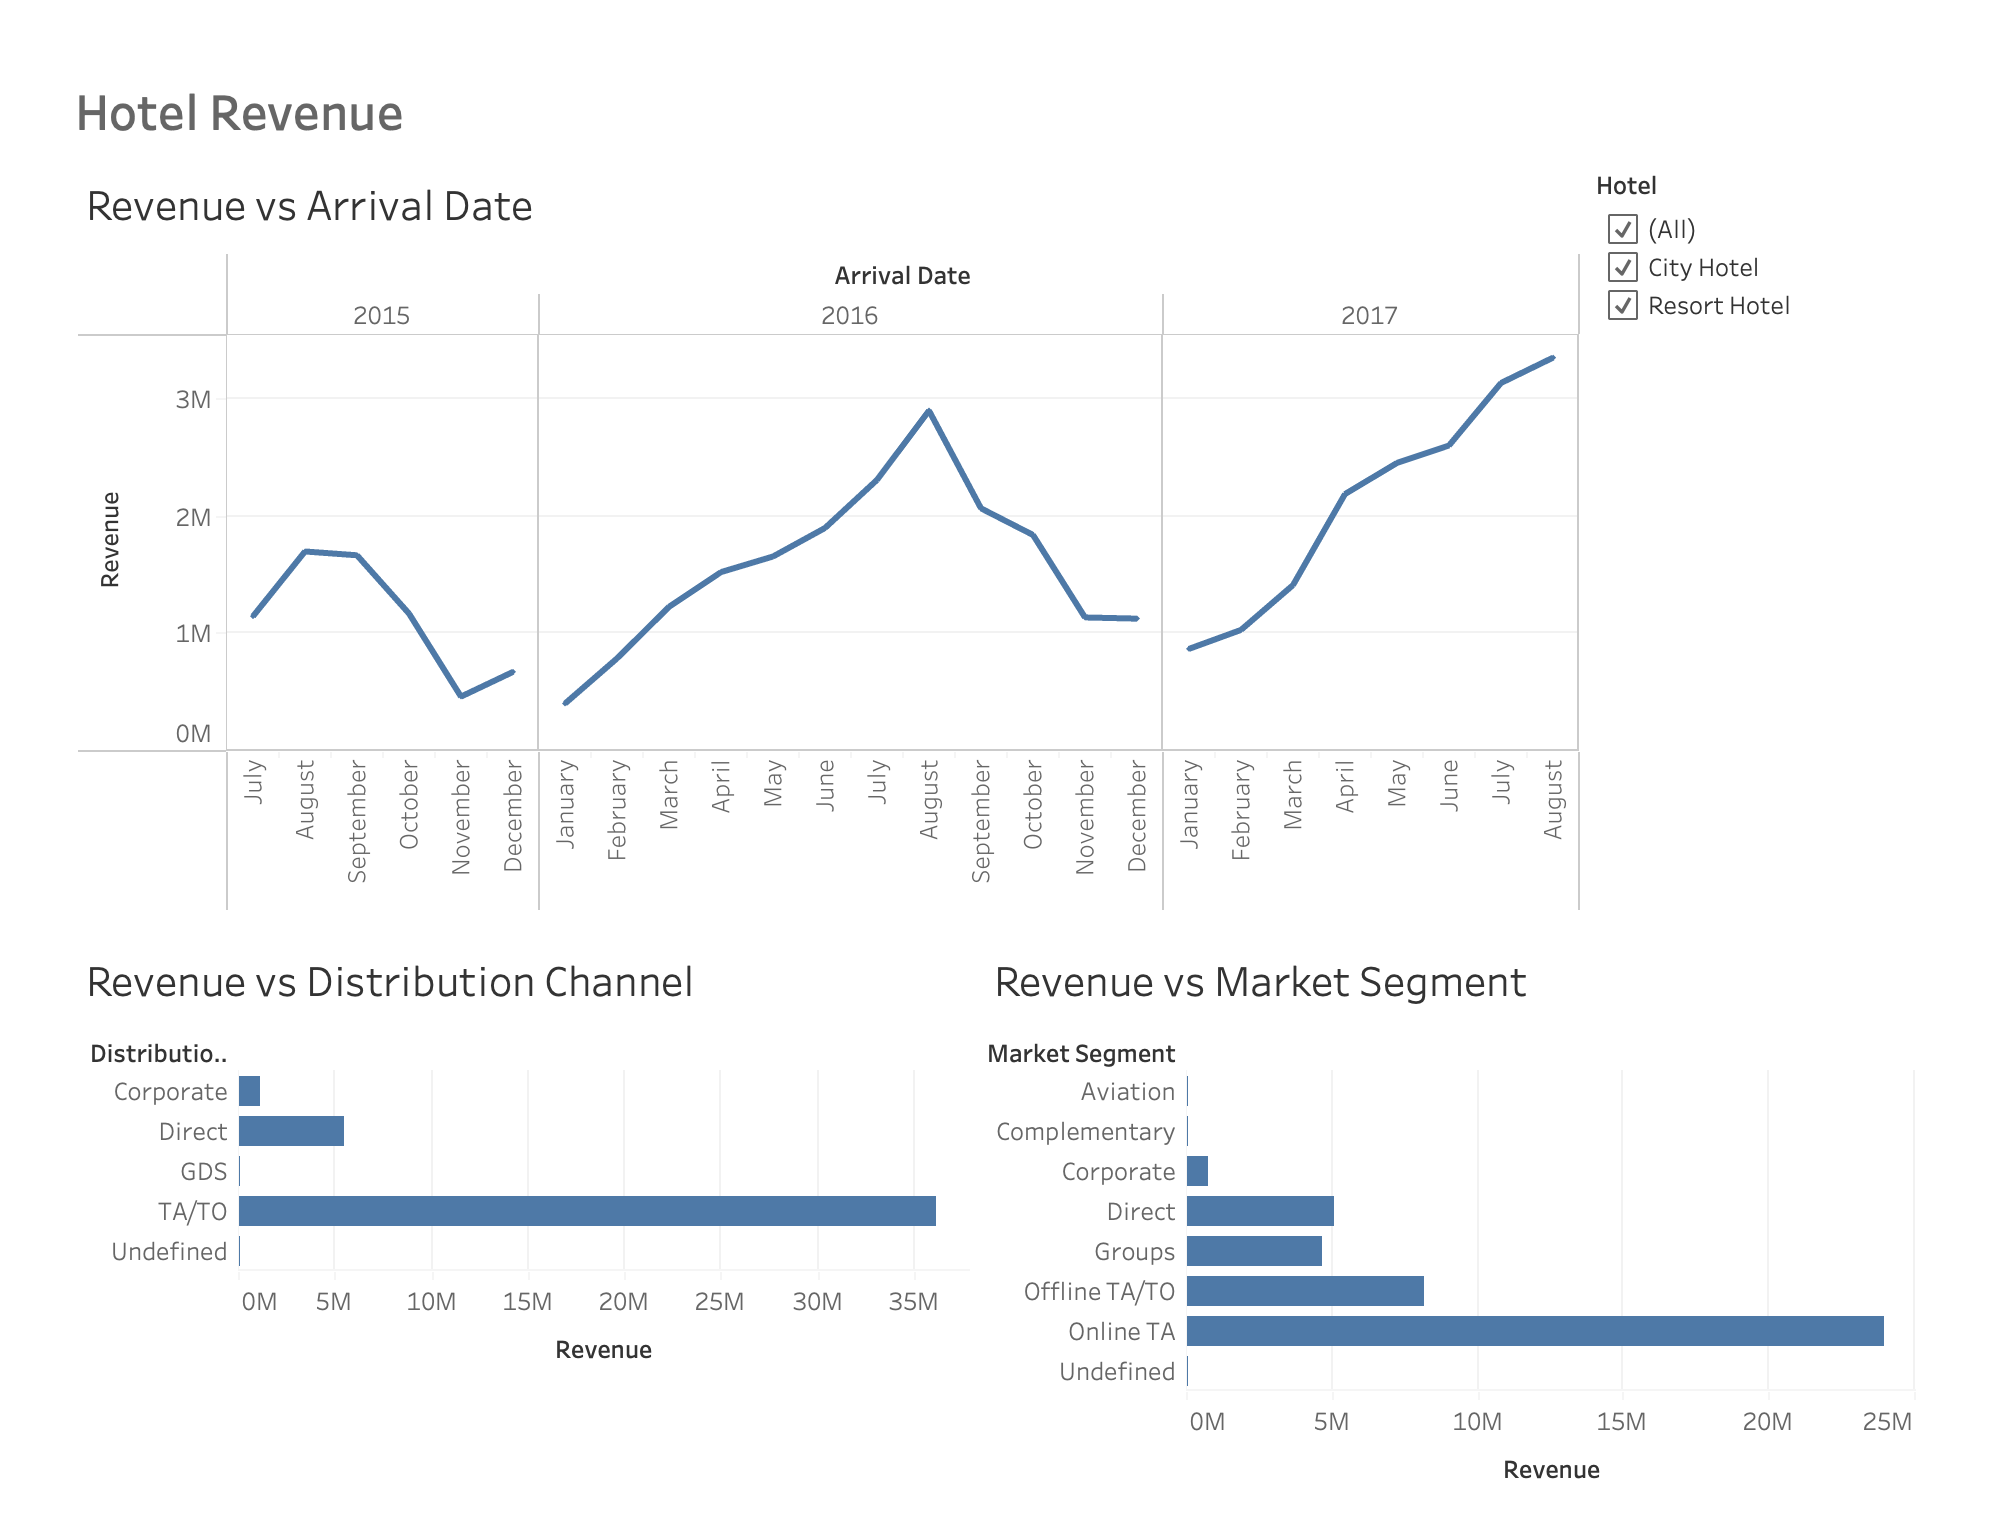

What the dashboard file says about the page in this screenshot:
{"tool":"tableau","page":{"name":"Hotel Revenue","canvas":[1000,800],"ordinal":0},"visuals":[{"type":"text","box":[30,50,935,41]},{"type":"worksheet","title":"Sheet 4","mark":"Automatic","rows":["Calculation_2306828191035043841"],"cols":["Calculation_2306828191040294916","Calculation_2306828191040294916"],"box":[34,95,758.8,380]},{"type":"filter","title":"Sheet 4","param":"[federated.0qbrdpk0nfwhgm1dxf0lx1k7eqxd].[none:hotel:nk]","box":[792.8,95,168,380]},{"type":"worksheet","title":"Sheet 3","mark":"Automatic","rows":["distribution_channel"],"cols":["Calculation_2306828191035043841"],"box":[34,483,453.5,286]},{"type":"worksheet","title":"Sheet 2","mark":"Automatic","rows":["market_segment"],"cols":["Calculation_2306828191035043841"],"box":[487.5,483,473.5,286]}]}

Visuals, with their boxes on the page's 1000x800 design canvas (x1, y1, x2, y2). These are canvas units, not pixel positions in the 1998x1530 screenshot, which may show the page scaled, cropped or inside an application window:
text: {"x1": 30, "y1": 50, "x2": 965, "y2": 91}
"Sheet 4" worksheet: {"x1": 34, "y1": 95, "x2": 793, "y2": 475}
"Sheet 4" filter: {"x1": 793, "y1": 95, "x2": 961, "y2": 475}
"Sheet 3" worksheet: {"x1": 34, "y1": 483, "x2": 488, "y2": 769}
"Sheet 2" worksheet: {"x1": 488, "y1": 483, "x2": 961, "y2": 769}
